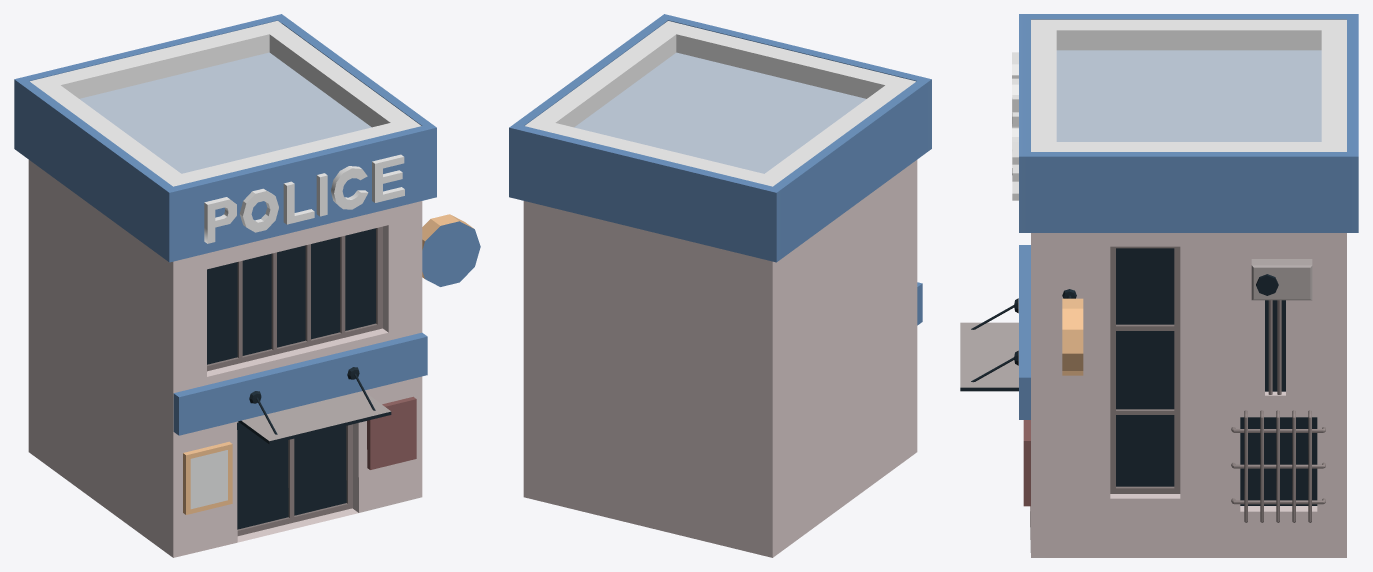
File: police_building.fbx
The picture shows the model from 3 angles, left to right: view 1: azimuth 30°, elevation 25°; view 2: azimuth 150°, elevation 25°; view 3: azimuth 270°, elevation 25°; orthographic projection. The views are drawn at different scales.
Parts seen in each view (by area): view 1: Police_building; view 2: Police_building; view 3: Police_building.
Boxes of the visible parts, <box> form: Police_building: <box>14,14,480,557</box>; Police_building: <box>509,14,931,557</box>; Police_building: <box>960,14,1358,557</box>.
Size of the model in its own units: 120 by 114 by 129.
